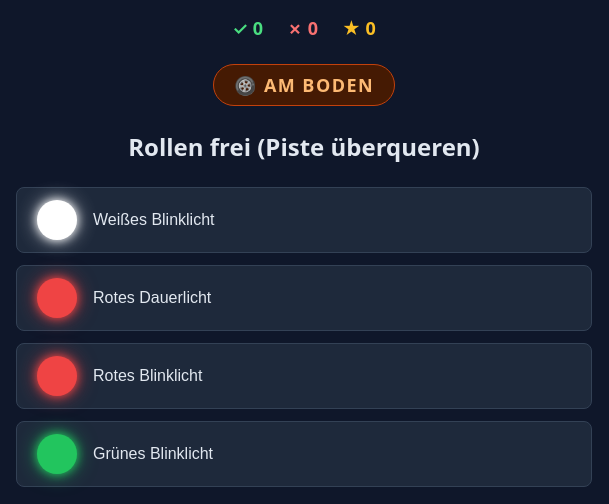
Test: /+page.svelte › updates highscore when correct answers exceed it
Click the button "Weißes Blinklicht": (57,220) [16,187,592,253]
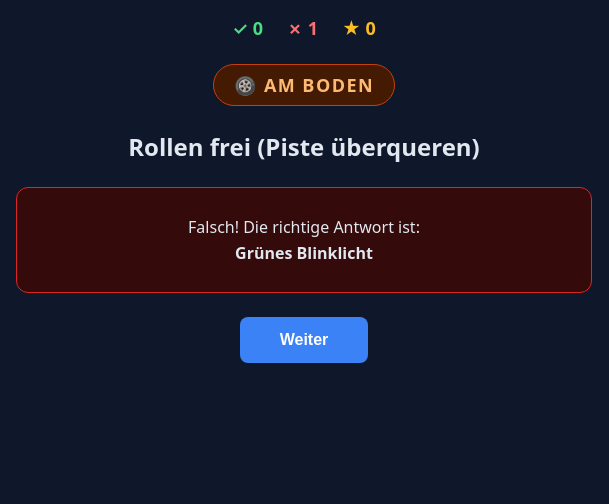
Expected: the text with test id "highscore" reads "0", [366,16,376,40]
Expected: the element with test id "result" is shown, [16,187,592,293]
